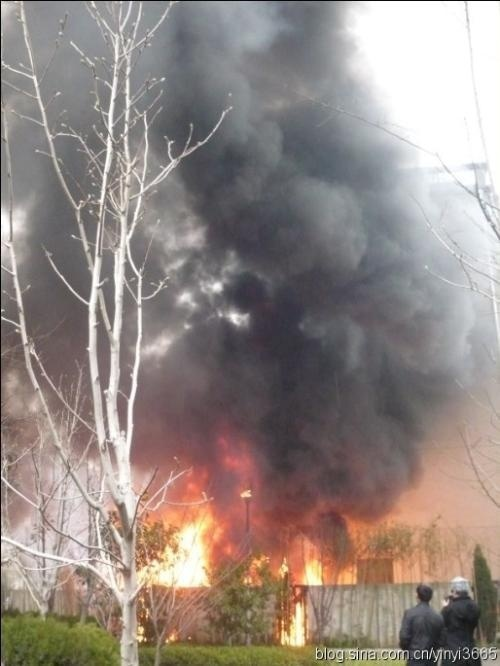fire: (134, 500, 221, 593), (271, 551, 327, 643)
